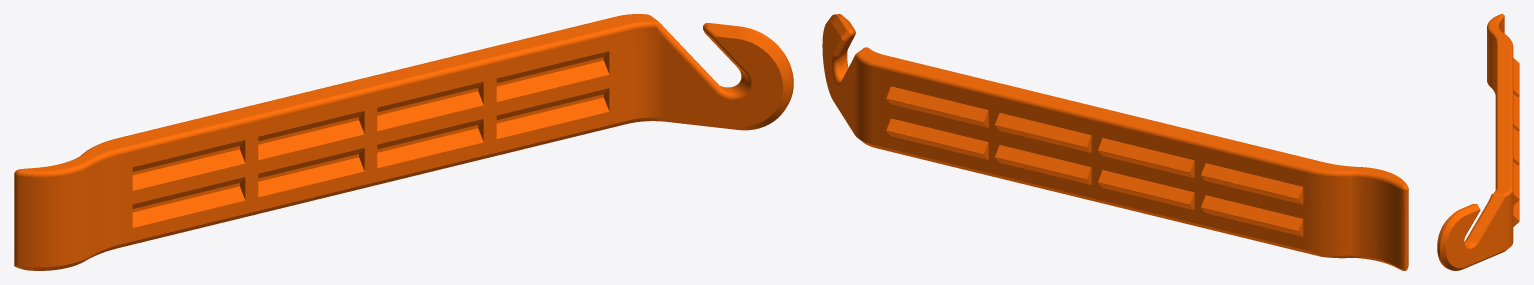
File: tire_lever.obj
3 renders of one model, left to right at view 1: azimuth 30°, elevation 25°; view 2: azimuth 150°, elevation 25°; view 3: azimuth 270°, elevation 25°, orthographic. The views are drawn at different scales.
Parts seen in each view (by area): view 1: MeshFeature1; view 2: MeshFeature1; view 3: MeshFeature1.
Part boxes in pixels (box(x1,y1,x2,y2)): MeshFeature1: box(14, 14, 793, 270); MeshFeature1: box(822, 14, 1408, 270); MeshFeature1: box(1437, 14, 1519, 270).
Size of the model in its own units: 0.1126 by 0.015 by 0.0189.
